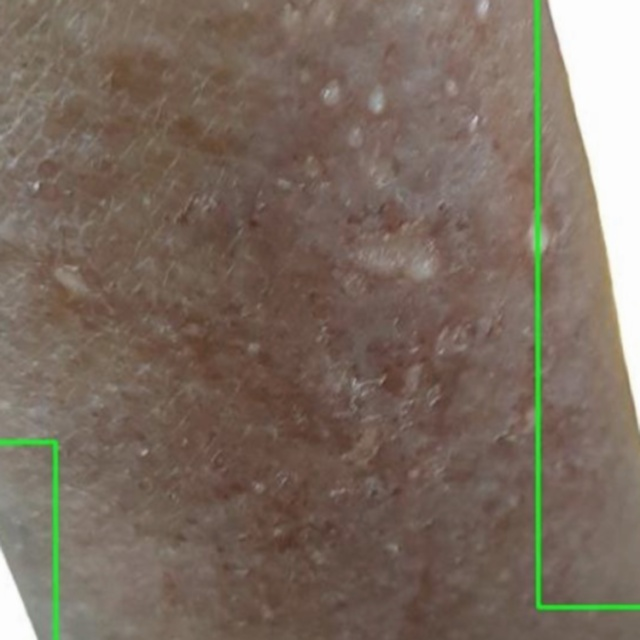Atopic Dermatitis: (537, 0, 639, 607)
